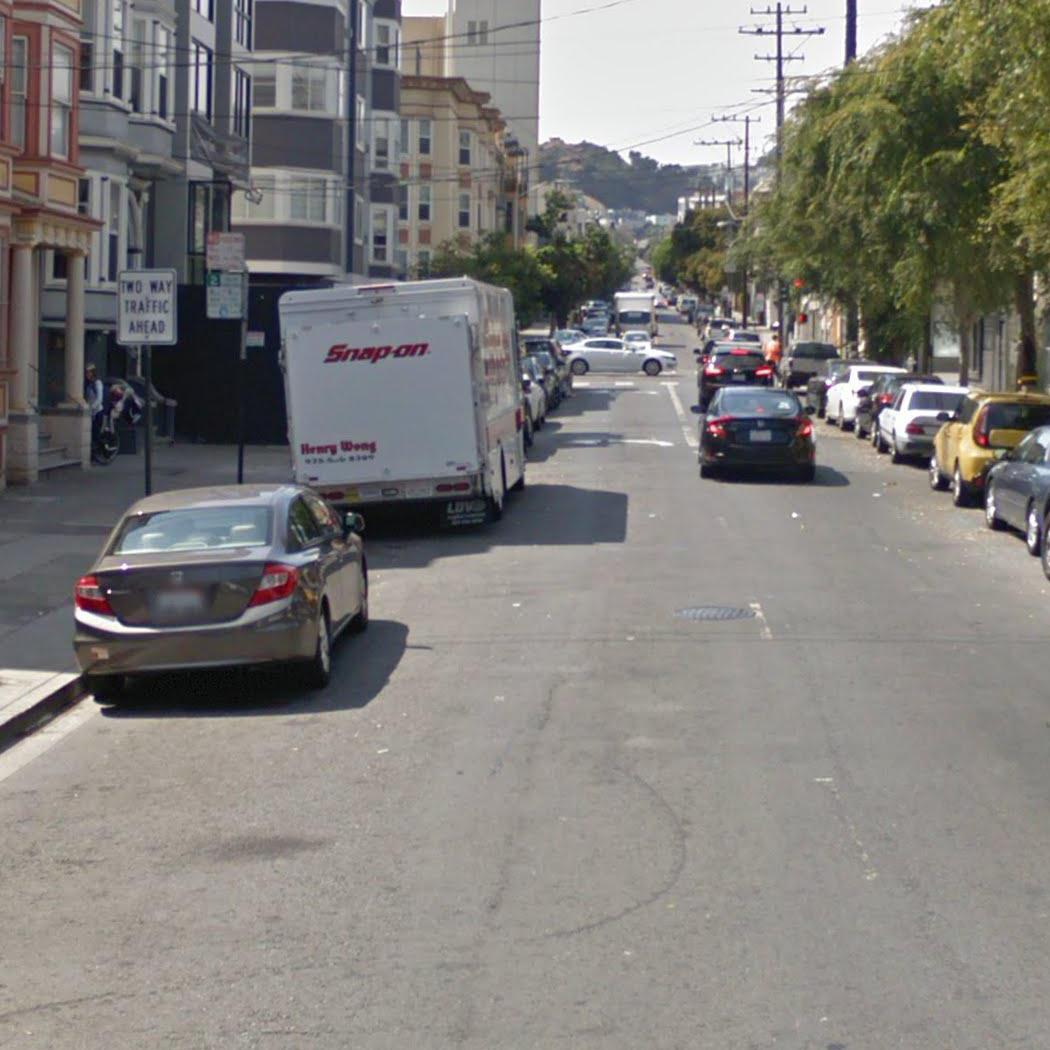2 Hour Parking: (204, 270, 247, 321)
No Parking: (204, 229, 248, 272)
